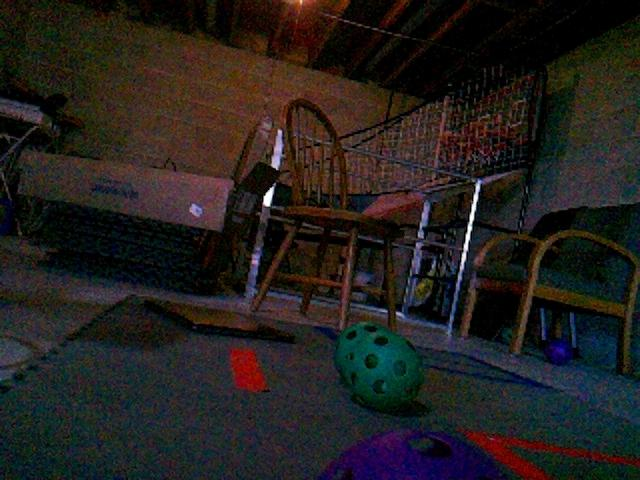Green: (350, 333, 426, 412), (336, 323, 391, 381), (495, 325, 516, 346)
Purple: (315, 427, 510, 478), (543, 337, 575, 366)
